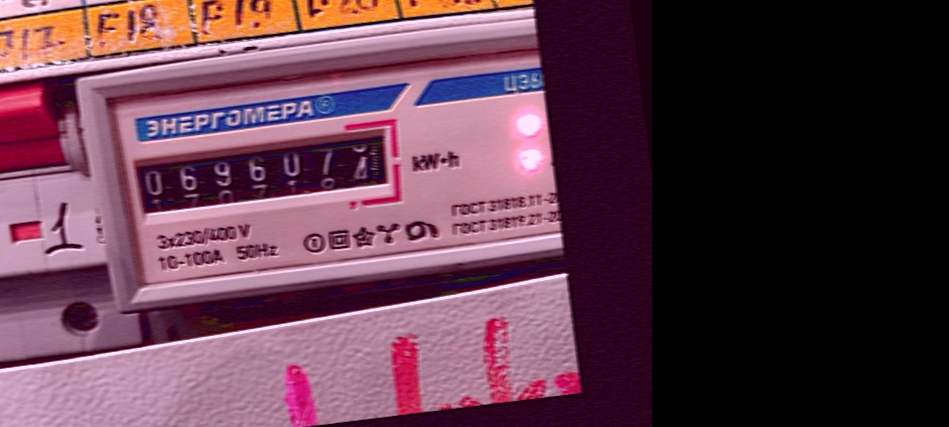0: (281, 150, 303, 182), (143, 170, 164, 200)
4: (351, 157, 370, 187)
6: (246, 156, 269, 188), (178, 165, 200, 195)
7: (317, 148, 337, 180)
9: (212, 162, 233, 192)
screen: (118, 113, 412, 237)
